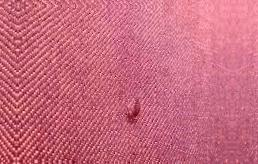knot: (121, 95, 143, 122)
